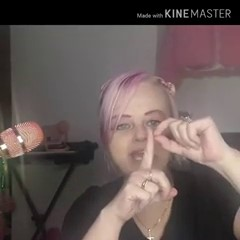P: (113, 114, 226, 217)
